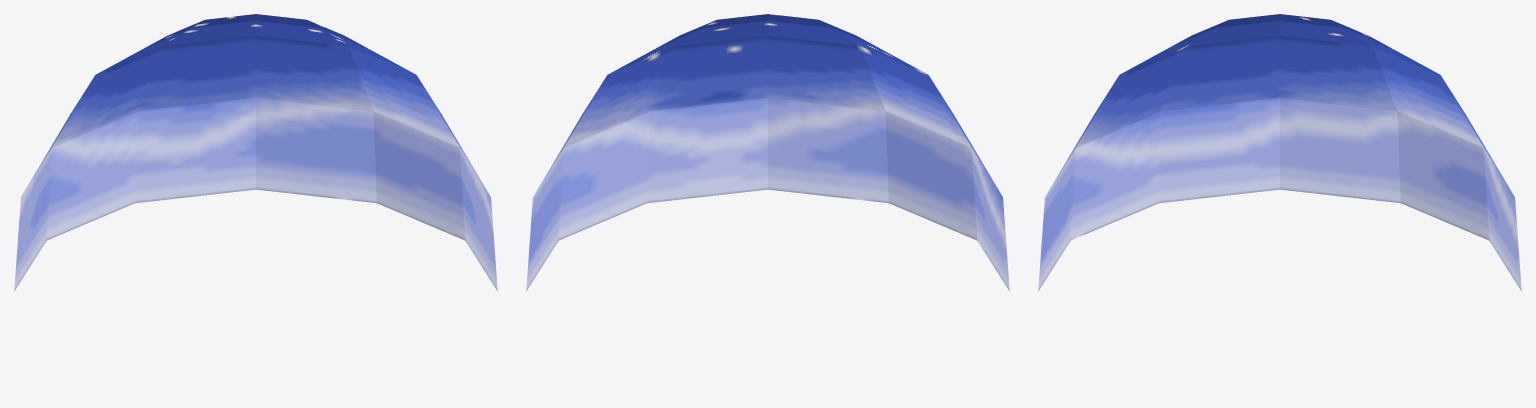
The model's file is sky.backdrop.glb.
3 renders of one model, left to right at view 1: azimuth 30°, elevation 25°; view 2: azimuth 150°, elevation 25°; view 3: azimuth 270°, elevation 25°, orthographic.
Parts seen in each view (by area): view 1: kit_shell_sky; view 2: kit_shell_sky; view 3: kit_shell_sky.
Part boxes in pixels (<box>): kit_shell_sky: <box>14,14,497,290</box>; kit_shell_sky: <box>526,14,1009,290</box>; kit_shell_sky: <box>1038,14,1521,290</box>.
Size of the model in its own units: 791 by 460 by 791.
Materials: 1 (1 with a texture image).
